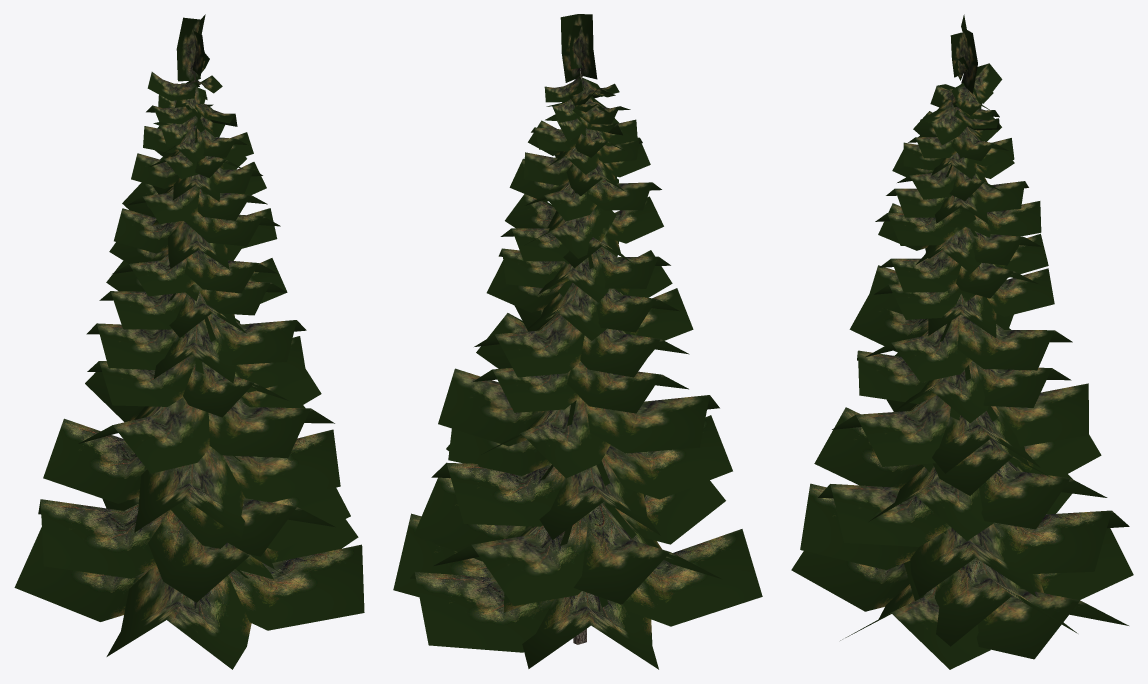
Rendered from mw_pine_01_LOD1.FBX.
3 views of the same model, side by side, from view 1: azimuth 30°, elevation 25°; view 2: azimuth 150°, elevation 25°; view 3: azimuth 270°, elevation 25° (orthographic). The views are drawn at different scales.
Parts seen in each view (by area): view 1: mw_pine_01_LOD1; view 2: mw_pine_01_LOD1; view 3: mw_pine_01_LOD1.
Part boxes in pixels (x1=…): mw_pine_01_LOD1: x1=14, y1=14, x2=364, y2=669; mw_pine_01_LOD1: x1=393, y1=14, x2=762, y2=669; mw_pine_01_LOD1: x1=791, y1=14, x2=1133, y2=669.
Bounding box in the file's own units: 689 × 1351 × 682.
